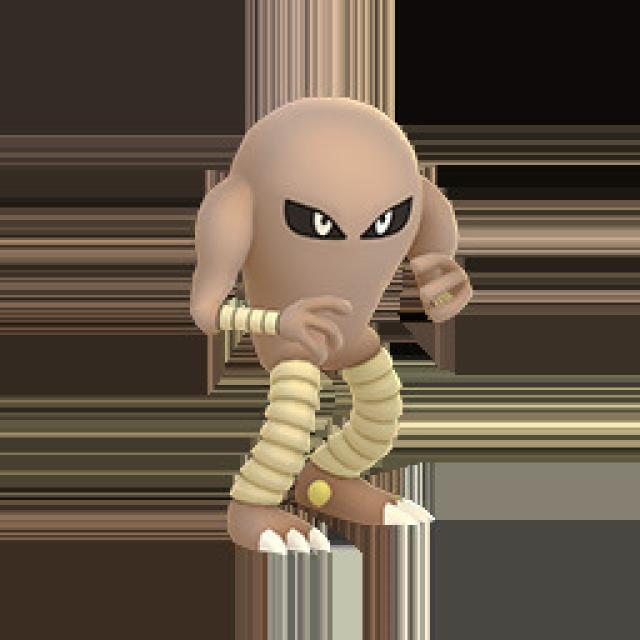Hitmonlee: (175, 84, 492, 568)
